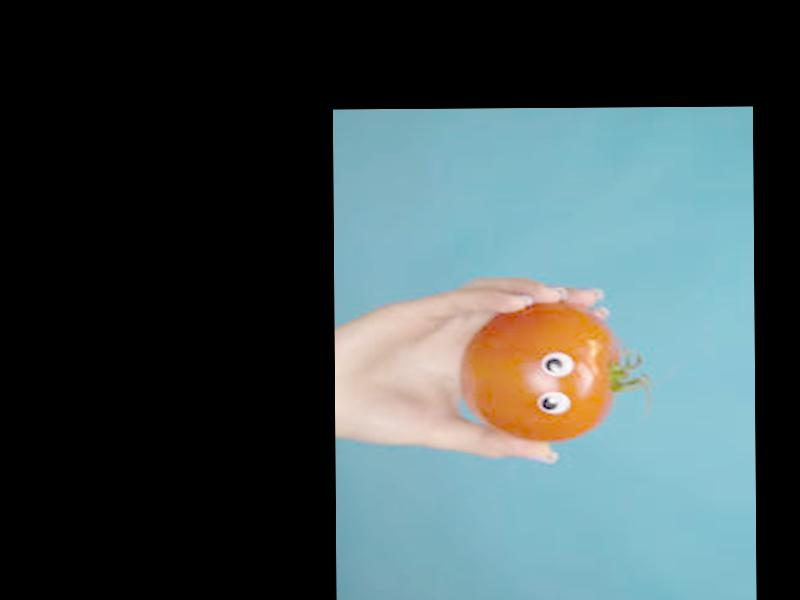Tomato: (459, 300, 622, 444)
